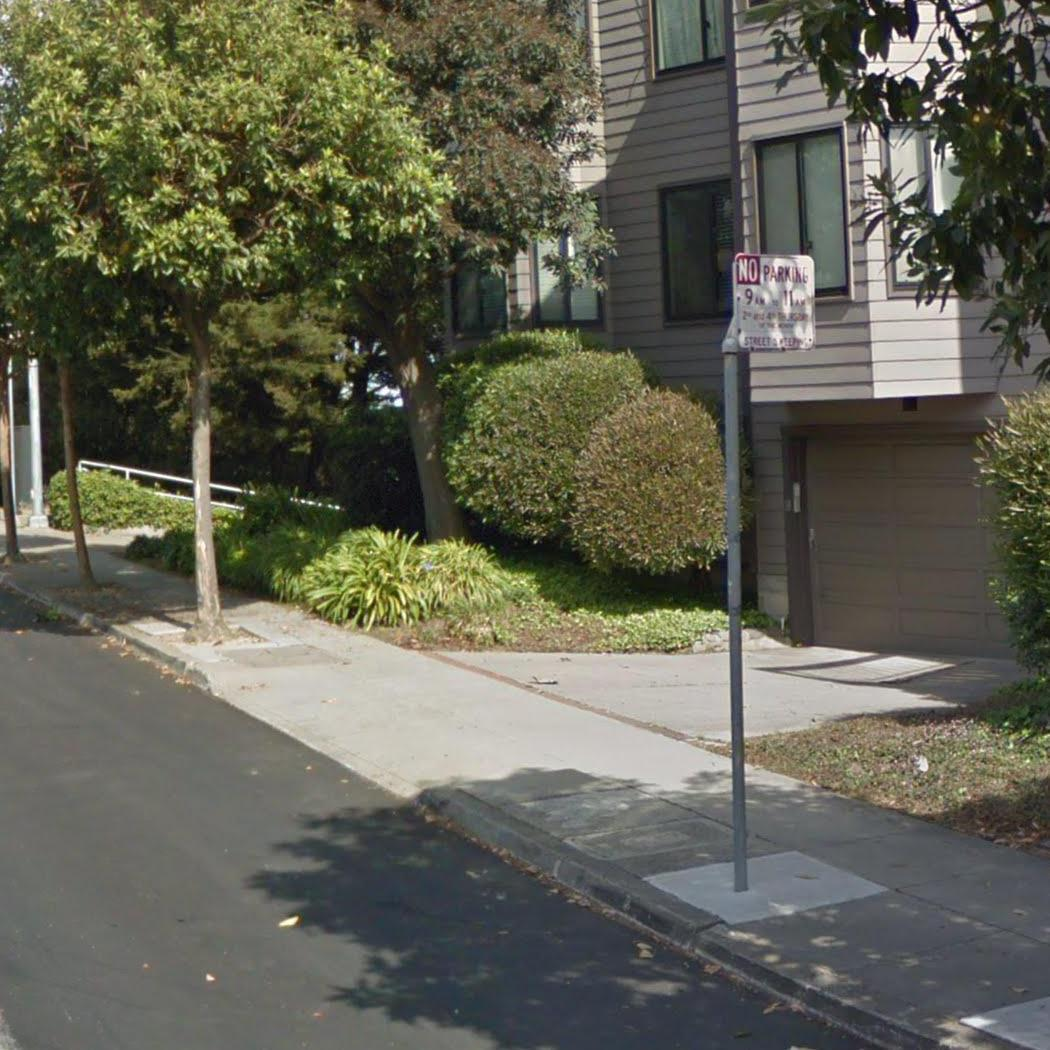No Parking: (728, 247, 819, 357)
